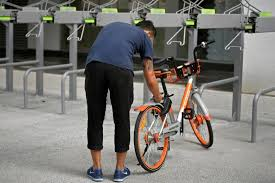bicycle: (135, 60, 235, 179)
